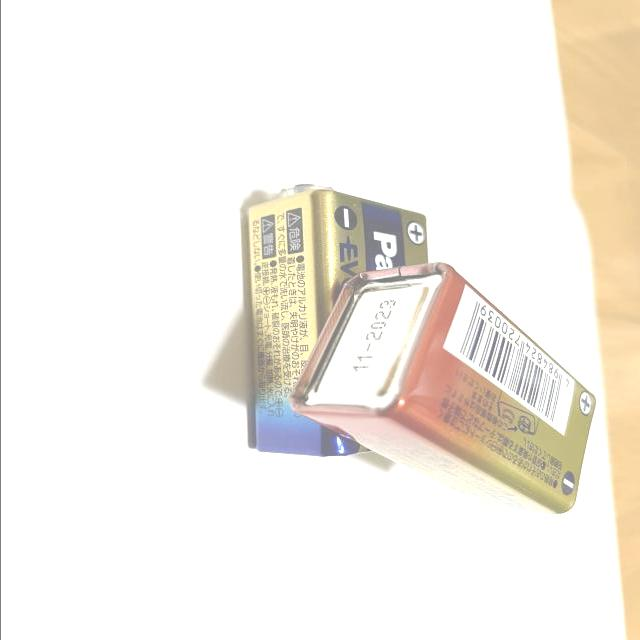9V: (293, 263, 598, 514), (248, 182, 428, 458)
